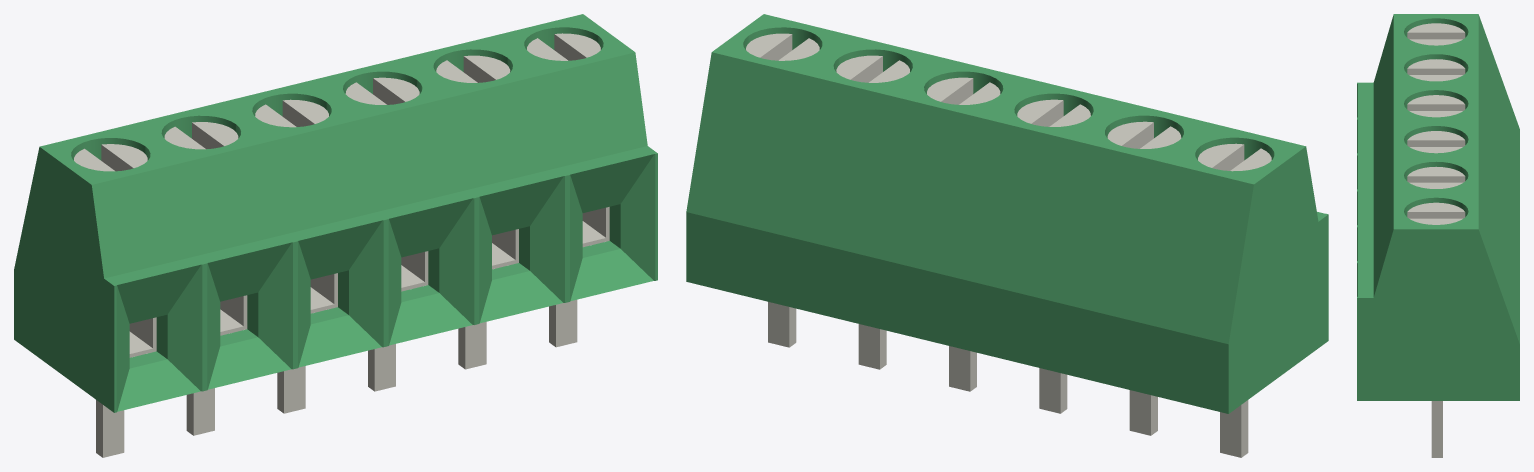
Rendered from kc-terminalblock_phoenix_mkds-1-6-3.81_1x06_p3.81mm_horizontal.glb.
3 views of the same model, side by side, from view 1: azimuth 30°, elevation 25°; view 2: azimuth 150°, elevation 25°; view 3: azimuth 270°, elevation 25° (orthographic). The views are drawn at different scales.
Parts seen in each view (by area): view 1: 0.08333333333333333_0.4166666666666667_0.16666666666666666_0, 0.6666666666666666_0.6666666666666666_0.5833333333333334_0.8; view 2: 0.08333333333333333_0.4166666666666667_0.16666666666666666_0, 0.6666666666666666_0.6666666666666666_0.5833333333333334_0.8; view 3: 0.08333333333333333_0.4166666666666667_0.16666666666666666_0, 0.6666666666666666_0.6666666666666666_0.5833333333333334_0.8.
Part boxes in pixels (x1,y1,x2,y2): 0.08333333333333333_0.4166666666666667_0.16666666666666666_0: (14,14,657,412); 0.6666666666666666_0.6666666666666666_0.5833333333333334_0.8: (74,33,609,457); 0.08333333333333333_0.4166666666666667_0.16666666666666666_0: (686,14,1328,413); 0.6666666666666666_0.6666666666666666_0.5833333333333334_0.8: (746,33,1271,457); 0.08333333333333333_0.4166666666666667_0.16666666666666666_0: (1357,14,1519,400); 0.6666666666666666_0.6666666666666666_0.5833333333333334_0.8: (1407,23,1465,457).
Size of the model in its own units: 2.29 by 1.2 by 0.7301.
